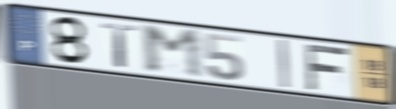5: (203, 31, 244, 83)
8: (49, 15, 89, 65)
F: (302, 42, 351, 92)
I: (276, 38, 292, 91)
M: (138, 24, 208, 81)
T: (99, 21, 140, 70)
